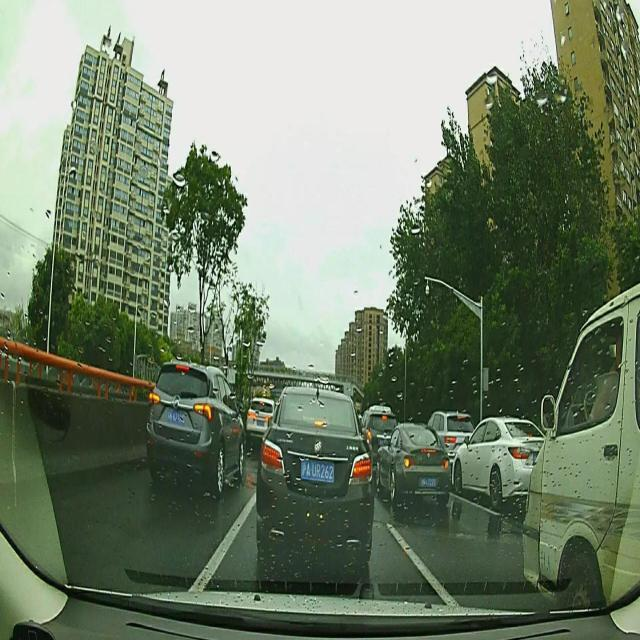car: (522, 286, 640, 610), (256, 382, 374, 570), (144, 361, 248, 498), (451, 415, 549, 509), (376, 422, 450, 510), (428, 411, 475, 453), (360, 405, 398, 451), (245, 396, 275, 446)
